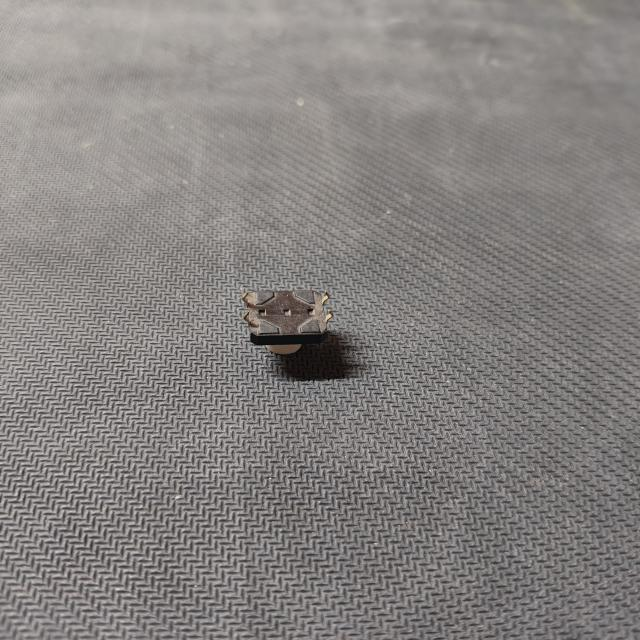switch: (229, 280, 351, 361)
